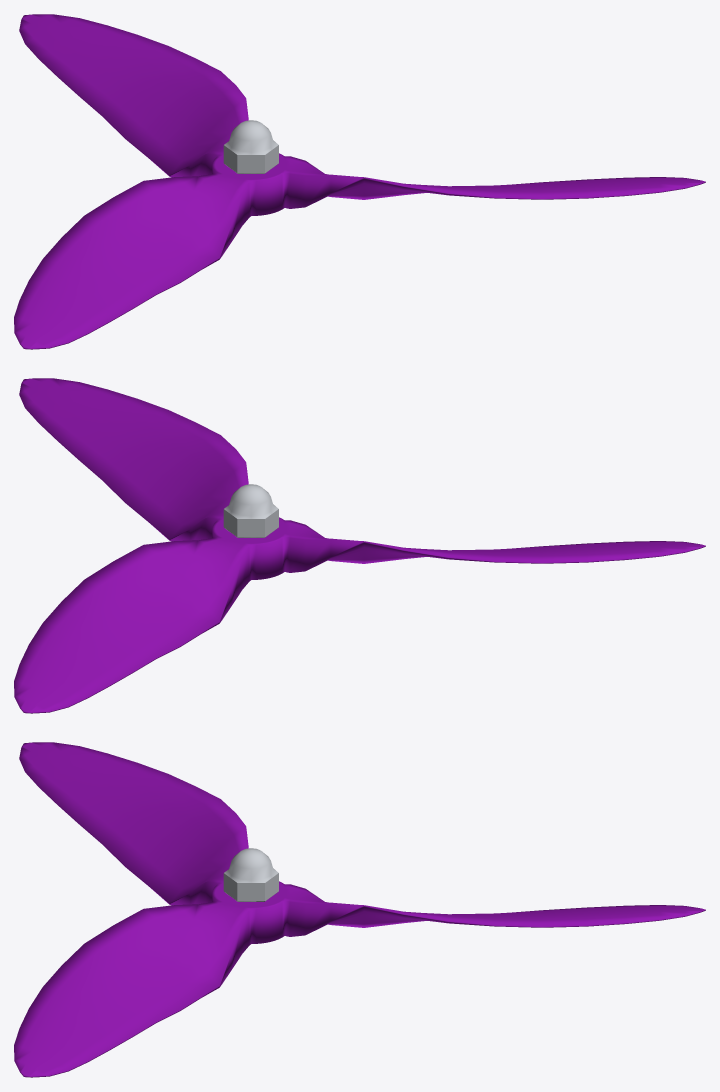
File: HQProp_6x35x3.fbx
3 renders of one model, top to bottom at view 1: azimuth 30°, elevation 25°; view 2: azimuth 150°, elevation 25°; view 3: azimuth 270°, elevation 25°, orthographic.
Visible parts, largest first — view 1: R2_PROP_HQProp_6x35x3, R2_NUT_HQProp_6x35x3; view 2: R2_PROP_HQProp_6x35x3, R2_NUT_HQProp_6x35x3; view 3: R2_PROP_HQProp_6x35x3, R2_NUT_HQProp_6x35x3.
Part boxes in pixels (<box>): R2_PROP_HQProp_6x35x3: <box>14,14,705,349</box>; R2_NUT_HQProp_6x35x3: <box>223,120,278,173</box>; R2_PROP_HQProp_6x35x3: <box>14,378,705,713</box>; R2_NUT_HQProp_6x35x3: <box>223,484,278,537</box>; R2_PROP_HQProp_6x35x3: <box>14,742,705,1077</box>; R2_NUT_HQProp_6x35x3: <box>223,848,278,901</box>.
Size of the model in its own units: 0.132 by 0.0166 by 0.116.
Materials: 1 (1 with a texture image).
